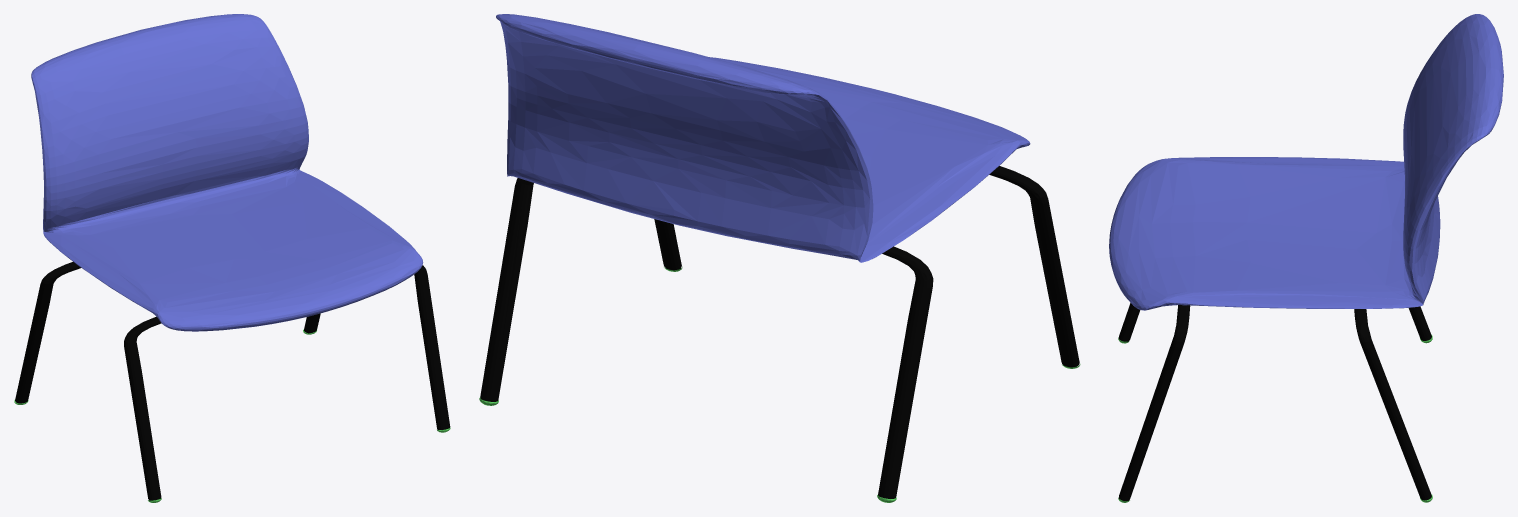
The model's file is sh-bs0-plastic-chair.glb.
The picture shows the model from 3 angles, left to right: view 1: azimuth 30°, elevation 25°; view 2: azimuth 150°, elevation 25°; view 3: azimuth 270°, elevation 25°; orthographic projection. The views are drawn at different scales.
Visible parts, largest first — view 1: Plane; view 2: Plane; view 3: Plane.
Part boxes in pixels (x1,y1,x2,y2): Plane: (14, 14, 450, 502); Plane: (479, 14, 1080, 502); Plane: (1109, 14, 1503, 502).
Size of the model in its own units: 0.9998 by 1 by 1.
